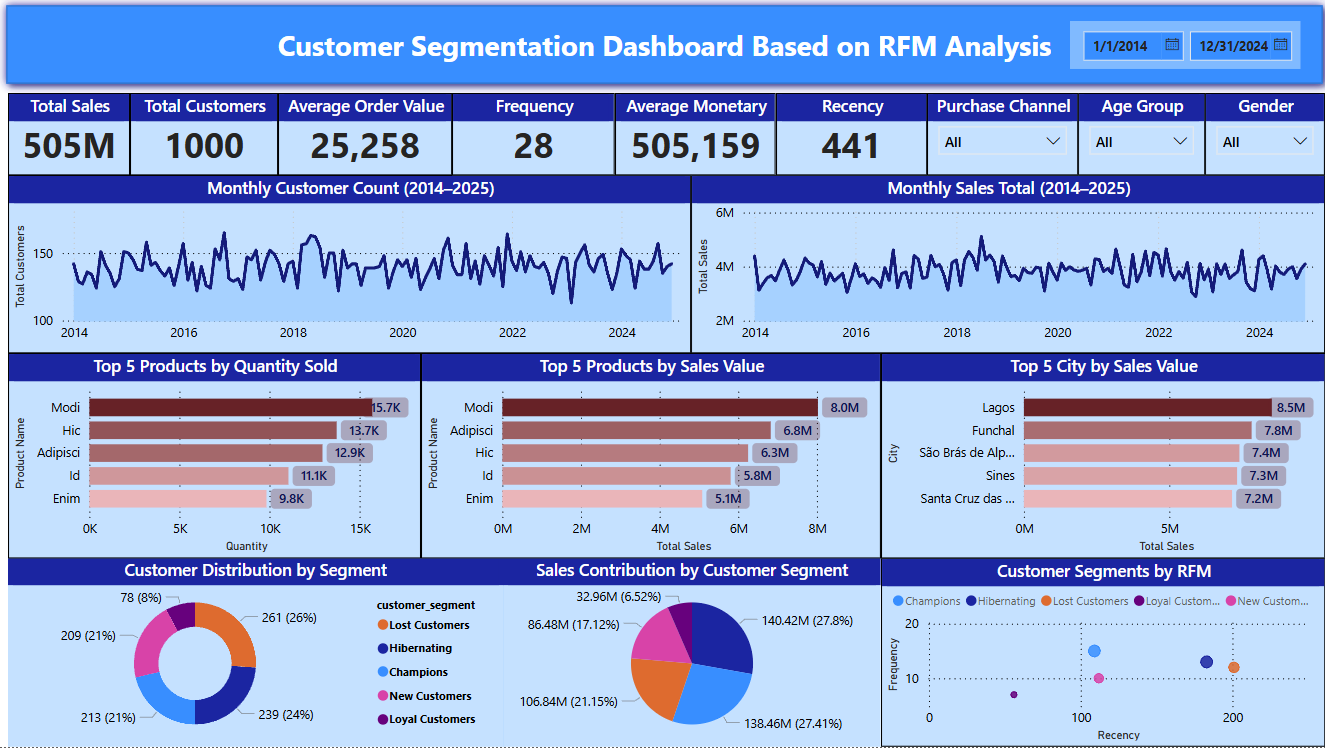

The page's visual inventory and layout, read from the dashboard file:
{"tool":"powerbi","page":{"name":"Page 1","canvas":[1280,720],"ordinal":0},"visuals":[{"type":"card","title":"Total Sales","fields":{"Values":["Sales.Total Sales"]},"box":[10.5,93,117,78.6],"z":0},{"type":"card","title":"Total Customers","fields":{"Values":["Count(Sales.Customer_ID)"]},"box":[127.5,93,141.9,78.6],"z":1000},{"type":"card","title":"Average Order Value","fields":{"Values":["Sales.AOV"]},"box":[269.4,93,166.8,78.6],"z":2000},{"type":"lineChart","title":"Monthly Sales Total (2014–2025)","fields":{"Category":["Sales.Sales_Date.Variation.Date Hierarchy.Year","Sales.Sales_Date.Variation.Date Hierarchy.Month"],"Y":["Sales.Total Sales"]},"box":[665.4,171.6,607.9,170.7],"z":3000},{"type":"lineChart","title":"Monthly Customer Count (2014–2025)","fields":{"Category":["Sales.Sales_Date.Variation.Date Hierarchy.Year","Sales.Sales_Date.Variation.Date Hierarchy.Month"],"Y":["Count(Sales.Customer_ID)"]},"box":[10.5,171.5,655.3,170.5],"z":4000},{"type":"donutChart","title":"Customer Distribution by Segment","fields":{"Category":["retail_rfm_segment.customer_segment"],"Y":["Count(Sales.Customer_ID)"]},"box":[10.5,538.8,474.6,181.2],"z":5000},{"type":"card","title":"Frequency","fields":{"Values":["Count(retail_rfm_segment.frequency)"]},"box":[436.3,93,156.3,78.6],"z":6000},{"type":"card","title":"Average Monetary","fields":{"Values":["Avg(retail_rfm_segment.monetary)"]},"box":[592.5,93,154.4,78.6],"z":7000},{"type":"card","title":"Recency","fields":{"Values":["Count(retail_rfm_segment.recency)"]},"box":[746.9,93,144.8,78.6],"z":8000},{"type":"clusteredBarChart","title":"Top 5 Products by Quantity Sold","fields":{"Category":["Products.Product_Name"],"Y":["Sum(Sales.Quantity)"]},"box":[10.5,342.3,396,196.6],"z":9000},{"type":"scatterChart","title":"Customer Segments by RFM","fields":{"X":["Count(retail_rfm_segment.recency)"],"Y":["Count(retail_rfm_segment.frequency)"],"Size":["Sum(retail_rfm_segment.monetary)"],"Series":["retail_rfm_segment.customer_segment"]},"box":[847.6,538.8,425.7,181.2],"z":10000},{"type":"pieChart","title":"Sales Contribution by Customer Segment","fields":{"Category":["retail_rfm_segment.customer_segment"],"Y":["Sum(Sales.Total_Sales)"]},"box":[485.2,538.8,362.4,181.2],"z":11000},{"type":"shape","box":[0,0,1280,93],"z":12000},{"type":"slicer","fields":{"Values":["Sales.Sales_Date"]},"box":[1028.8,24,221.5,46],"z":13000},{"type":"clusteredBarChart","title":"Top 5 Products by Sales Value","fields":{"Category":["Products.Product_Name"],"Y":["Sales.Total Sales"]},"box":[406.5,342.3,441,196.6],"z":14000},{"type":"clusteredBarChart","title":"Top 5 City by Sales Value ","fields":{"Y":["Sales.Total Sales"],"Category":["Customers.City"]},"box":[847.6,342.3,425.7,196.6],"z":15000},{"type":"slicer","title":"Gender","fields":{"Values":["Customers.Gender"]},"box":[1158.2,93,115.1,78.6],"z":16000},{"type":"slicer","title":"Age Group","fields":{"Values":["Customers.Age_Group"]},"box":[1036.5,93,121.8,78.6],"z":17000},{"type":"slicer","title":"Purchase Channel","fields":{"Values":["Customers.Purchase_Channel"]},"box":[891.7,93,144.8,78.6],"z":18000}]}

Visuals, with their boxes in screenshot pixels (x1, y1, x2, y2), scaled from the page's 1280x720 canvas onto the 1325x748 screenshot:
"Total Sales" card: (x1=11, y1=97, x2=132, y2=178)
"Total Customers" card: (x1=132, y1=97, x2=279, y2=178)
"Average Order Value" card: (x1=279, y1=97, x2=452, y2=178)
"Monthly Sales Total (2014–2025)" lineChart: (x1=689, y1=178, x2=1318, y2=356)
"Monthly Customer Count (2014–2025)" lineChart: (x1=11, y1=178, x2=689, y2=355)
"Customer Distribution by Segment" donutChart: (x1=11, y1=560, x2=502, y2=747)
"Frequency" card: (x1=452, y1=97, x2=613, y2=178)
"Average Monetary" card: (x1=613, y1=97, x2=773, y2=178)
"Recency" card: (x1=773, y1=97, x2=923, y2=178)
"Top 5 Products by Quantity Sold" clusteredBarChart: (x1=11, y1=356, x2=421, y2=560)
"Customer Segments by RFM" scatterChart: (x1=877, y1=560, x2=1318, y2=747)
"Sales Contribution by Customer Segment" pieChart: (x1=502, y1=560, x2=877, y2=747)
shape: (x1=0, y1=0, x2=1324, y2=97)
slicer - Sales.Sales_Date: (x1=1065, y1=25, x2=1294, y2=73)
"Top 5 Products by Sales Value" clusteredBarChart: (x1=421, y1=356, x2=877, y2=560)
"Top 5 City by Sales Value " clusteredBarChart: (x1=877, y1=356, x2=1318, y2=560)
"Gender" slicer: (x1=1199, y1=97, x2=1318, y2=178)
"Age Group" slicer: (x1=1073, y1=97, x2=1199, y2=178)
"Purchase Channel" slicer: (x1=923, y1=97, x2=1073, y2=178)
